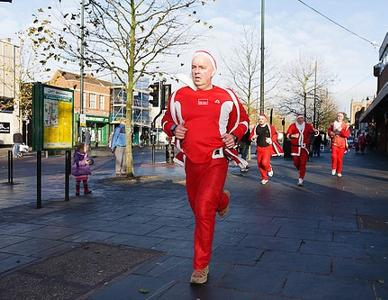person: (159, 50, 251, 286)
